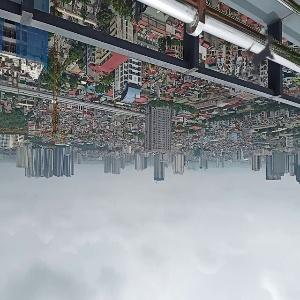drone: (222, 19, 299, 96)
